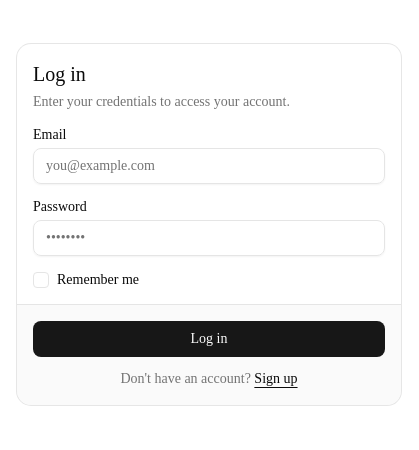
Scenario: LoginForm › translates a known error code and does not redirect on failed login
Type "a@b.com" into the field labelled "Email" at (209, 166), box [33,148,385,184]
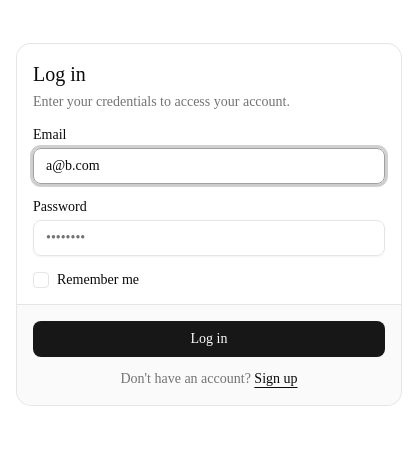
Type "secret12" into the password field labelled "Password" at (209, 238), box [33,220,385,256]
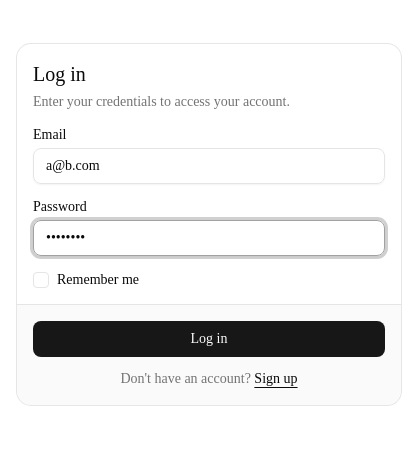
Click the button "Log in" at (209, 338), box [33,320,385,356]
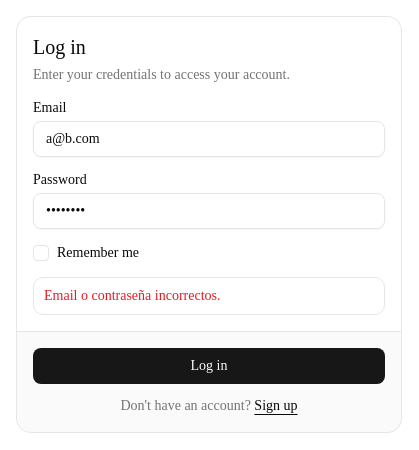
Result: the text "Email o contraseña incorrectos." is shown at [44,288,220,302]
